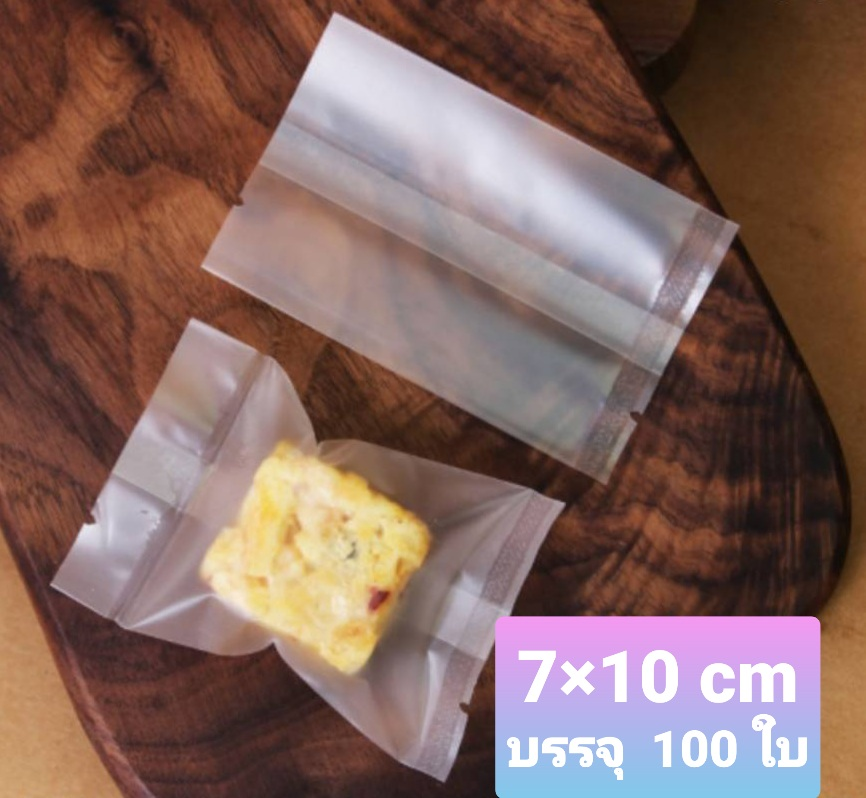Snack: (50, 318, 564, 786)
